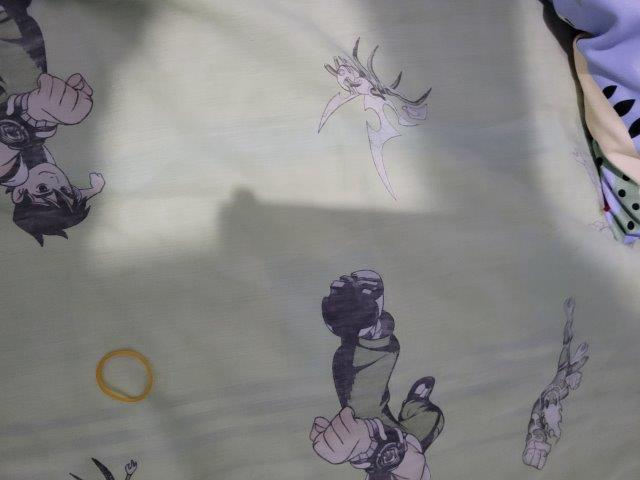karet: (96, 349, 155, 403)
